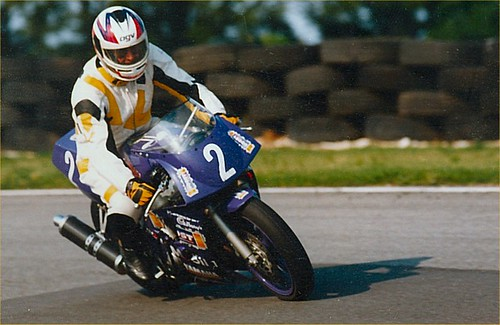helmet: (83, 3, 160, 85)
